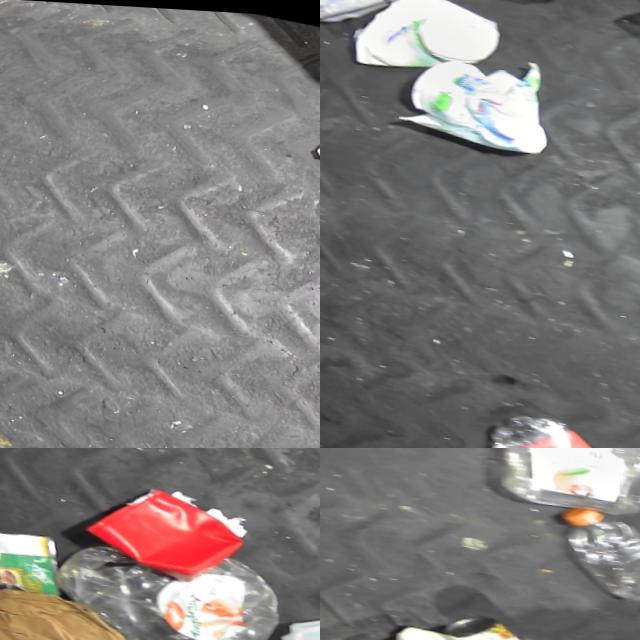can: (44, 521, 298, 640), (446, 601, 560, 640), (320, 0, 406, 34)
milk_jug: (350, 0, 510, 88)
non_white_jug: (492, 448, 640, 527)
plastic_bottle: (550, 493, 640, 597), (487, 404, 640, 448)
